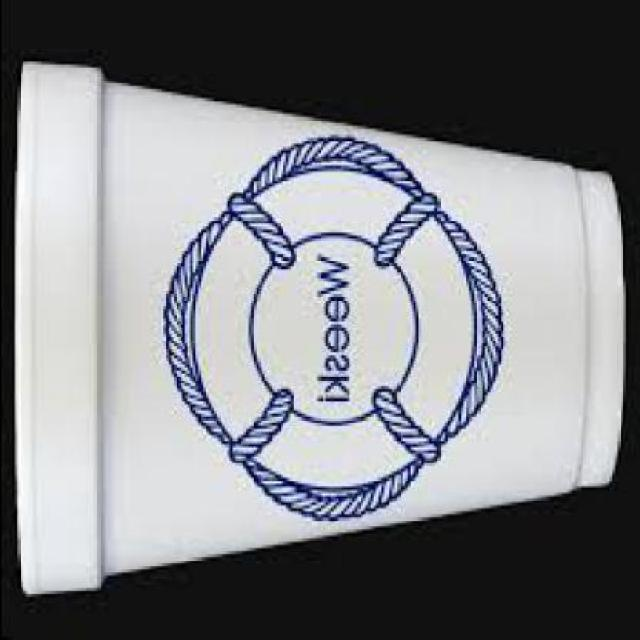PAPER: (10, 58, 619, 591)
